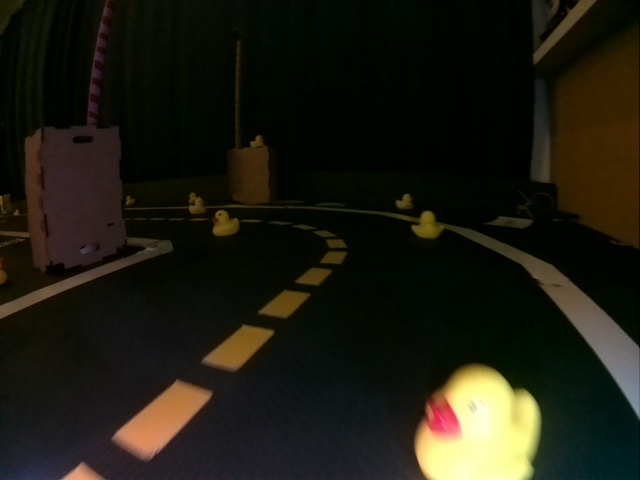Duckie: (416, 365, 542, 479), (412, 211, 443, 239), (212, 210, 241, 237), (189, 199, 205, 215), (396, 194, 413, 209), (250, 134, 264, 146)
